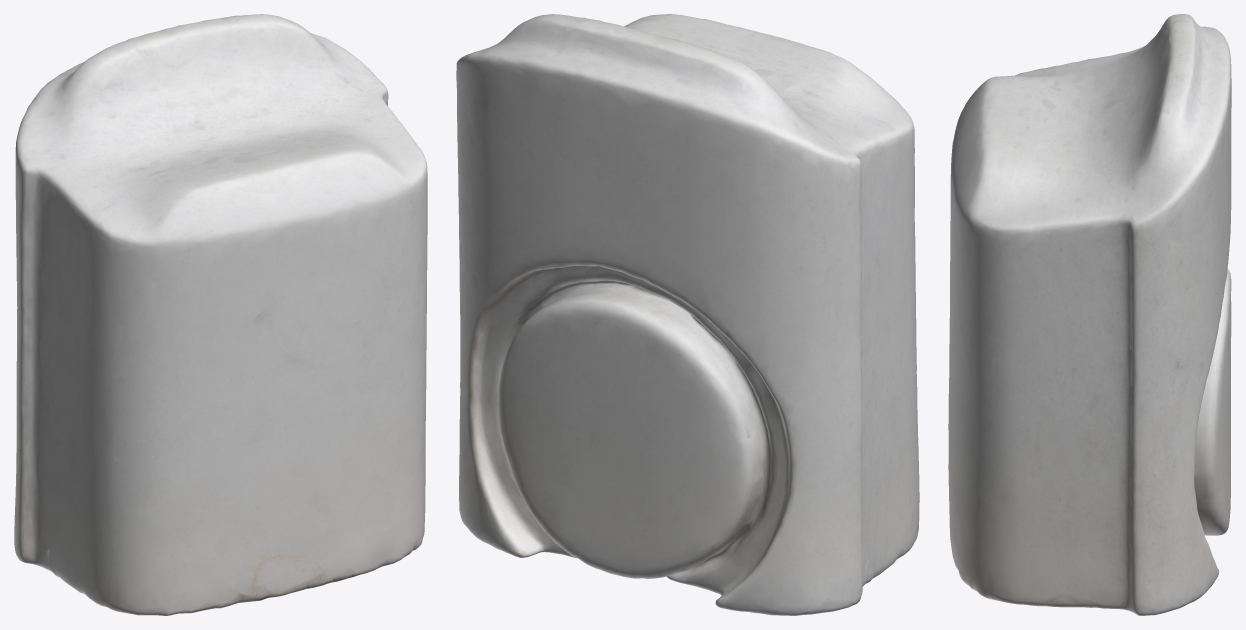
File: 15_testas.glb
3 renders of one model, left to right at view 1: azimuth 30°, elevation 25°; view 2: azimuth 150°, elevation 25°; view 3: azimuth 270°, elevation 25°, orthographic. The views are drawn at different scales.
Visible parts, largest first — view 1: Group29480; view 2: Group29480; view 3: Group29480.
Boxes of the visible parts, bbox=[...] form: Group29480: bbox=[14, 14, 427, 615]; Group29480: bbox=[456, 14, 919, 615]; Group29480: bbox=[948, 14, 1231, 615].
Size of the model in its own units: 3.33 by 4.23 by 2.25.
1 material, 1 textured.
